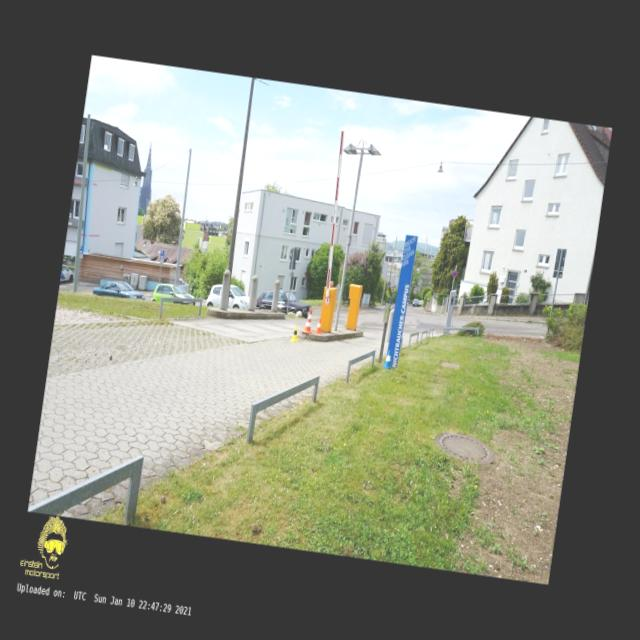blue_cone: (382, 349, 393, 369)
large_orange_cone: (302, 308, 315, 334)
orange_cone: (315, 318, 323, 334)
yellow_cone: (290, 324, 300, 342)
